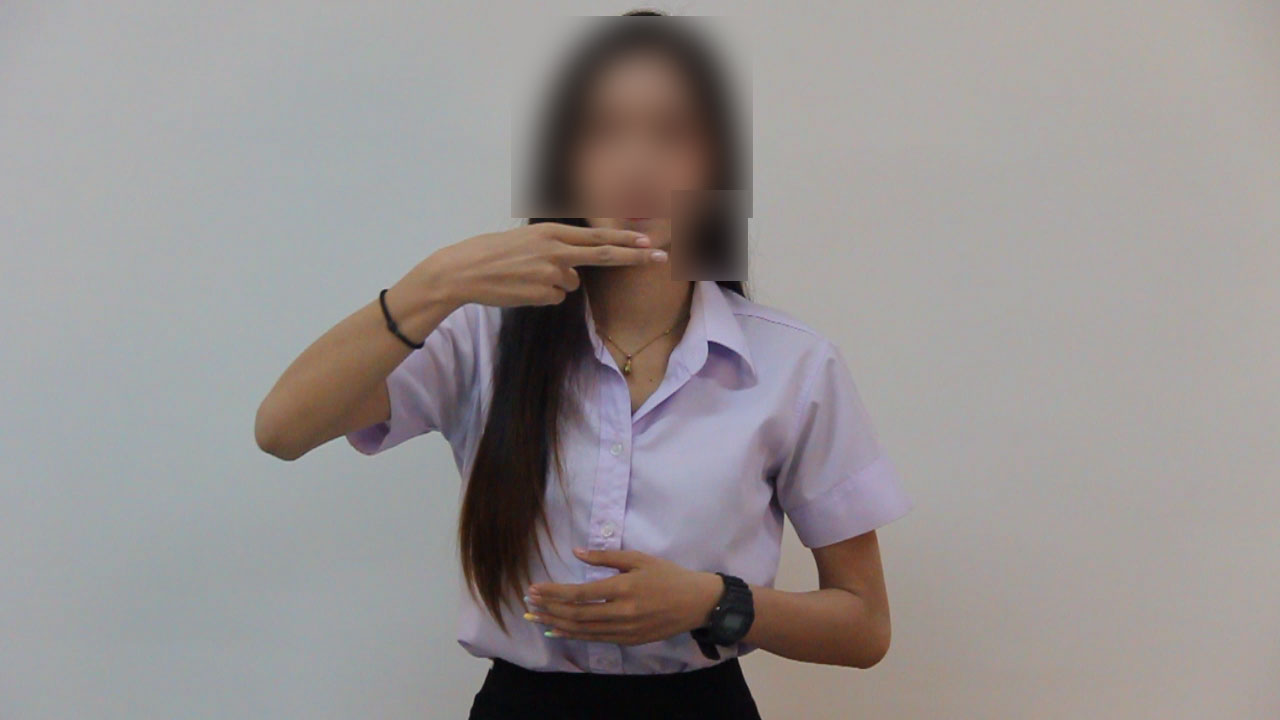hor: (439, 216, 679, 322)
